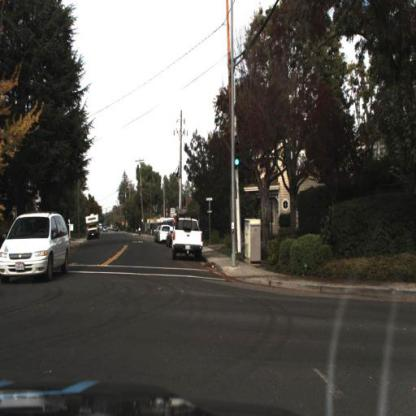car: (1, 209, 76, 281), (172, 218, 206, 254), (156, 219, 169, 248)
trafficLight-Green: (233, 140, 243, 171), (234, 140, 242, 169)
truck: (85, 207, 104, 242)
